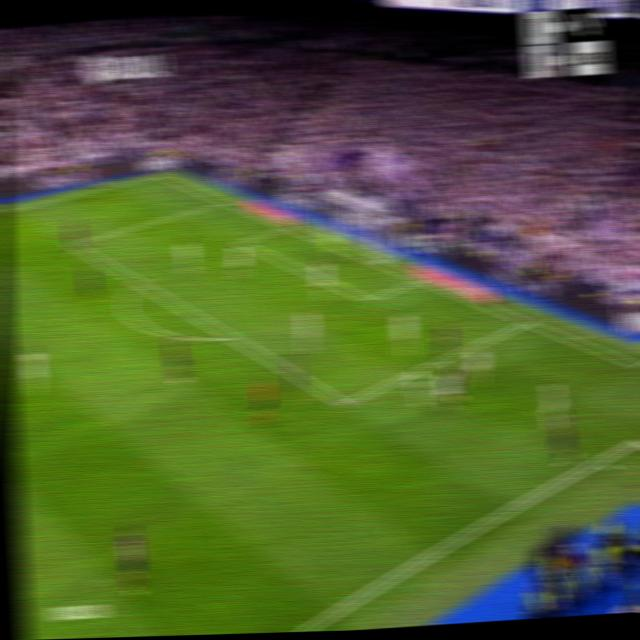bigarea_bottom_inner: (333, 390, 353, 415)
bigarea_bottom_outter: (516, 311, 536, 330)
bottom_arc_area_intersection: (221, 327, 241, 346)
corner: (153, 171, 167, 179)
smallarea_bottom_inner: (360, 289, 377, 308)
smallarea_top_inner: (235, 236, 249, 247)
top_arc_area_intersection: (128, 272, 146, 289)
